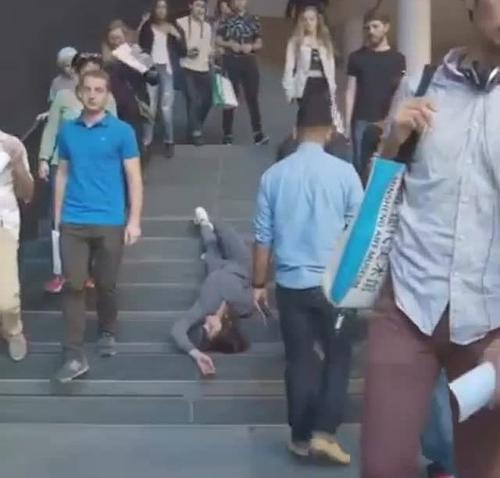10+: (1, 1, 500, 478)
down: (169, 202, 261, 380)
